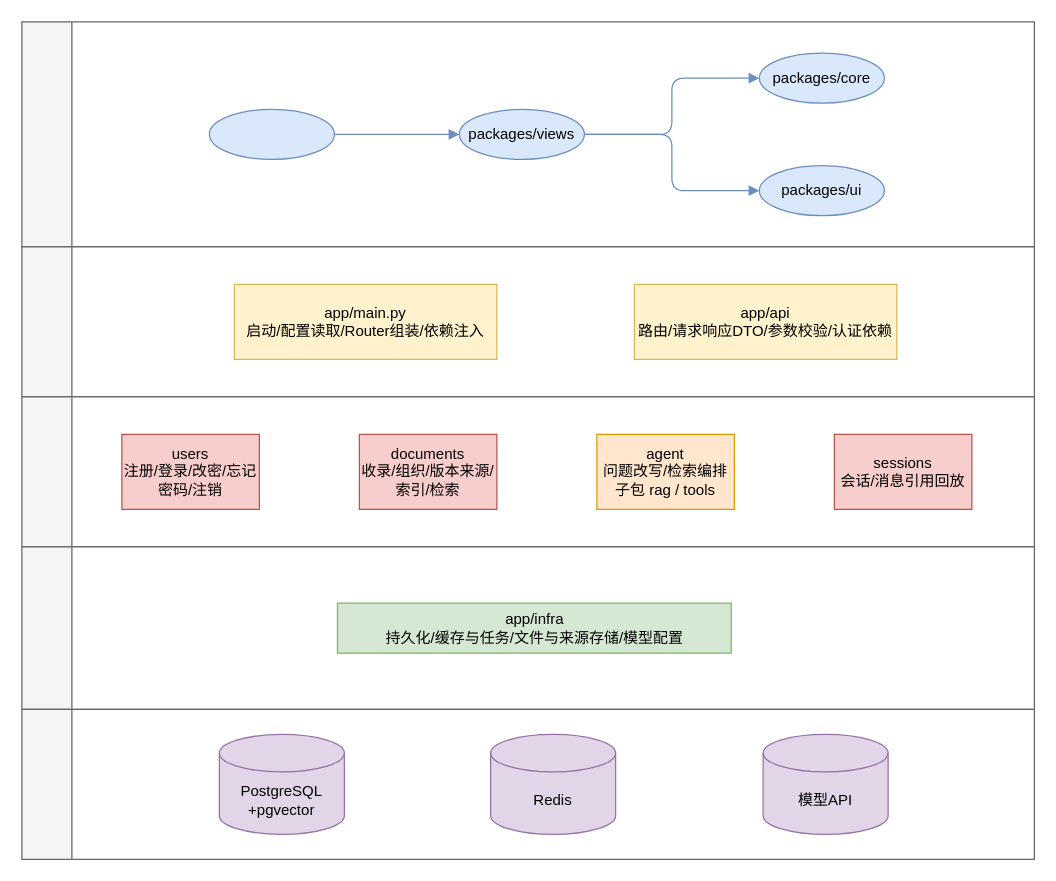
Image size: 1056x881. Some labels were removed from this diagram. The box of each missing label's shape, as (x1, y1, x2, y2) in pixels:
apps/web: (208, 108, 334, 159)
业务层: (21, 396, 1034, 547)
前端层: (21, 21, 1034, 247)
基础设施层: (21, 546, 1034, 709)
存储与外部服务: (21, 708, 1034, 859)
接入层: (21, 246, 1034, 397)
